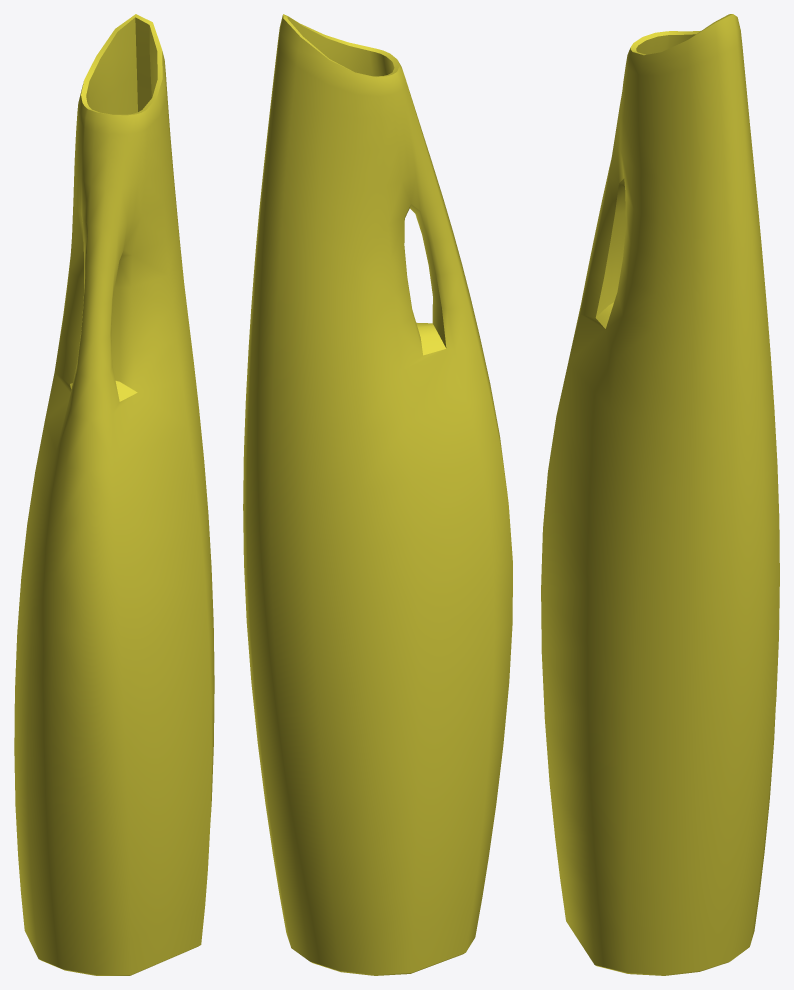
File: Yellow002.FBX
The picture shows the model from 3 angles, left to right: view 1: azimuth 30°, elevation 25°; view 2: azimuth 150°, elevation 25°; view 3: azimuth 270°, elevation 25°; orthographic projection. The views are drawn at different scales.
Visible parts, largest first — view 1: Yellow002; view 2: Yellow002; view 3: Yellow002.
Boxes of the visible parts, x1,y1,x2,y2 form: Yellow002: [14, 14, 214, 975]; Yellow002: [243, 14, 512, 975]; Yellow002: [541, 14, 779, 975].
Size of the model in its own units: 0.3564 by 1.53 by 0.3487.
1 material, 1 textured.
